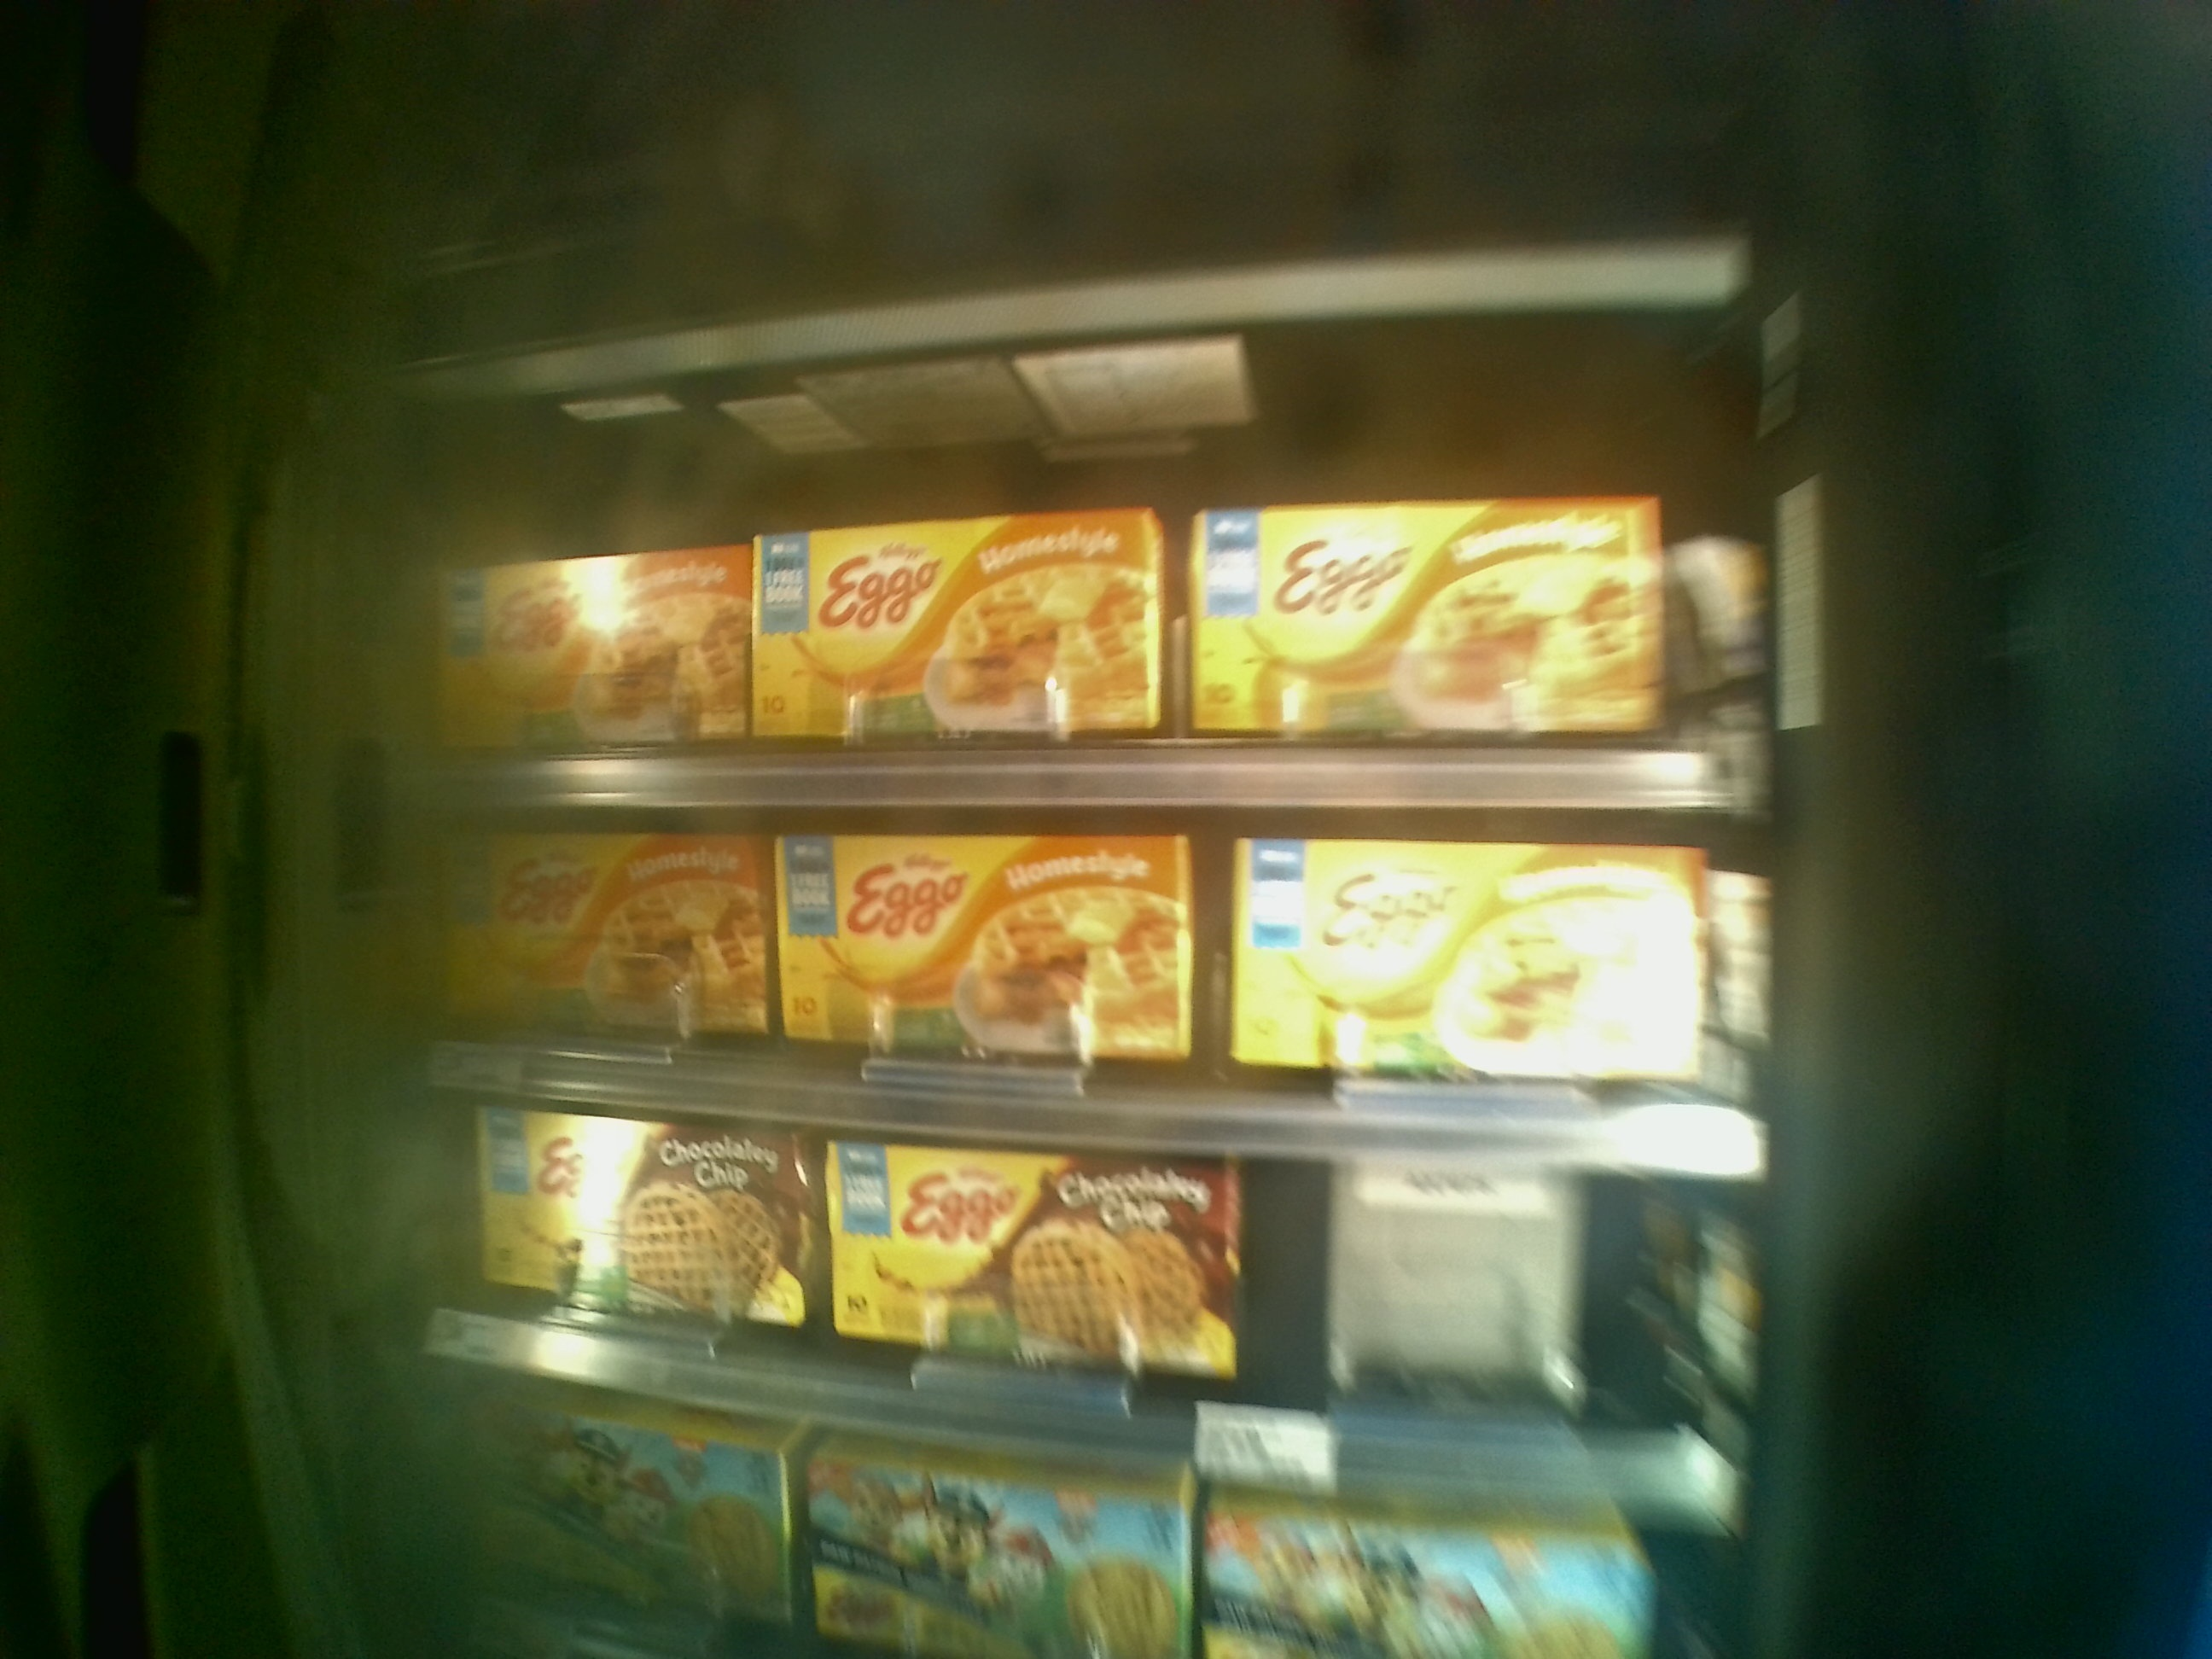shelf: (401, 443, 1775, 812), (401, 809, 1782, 1173)
